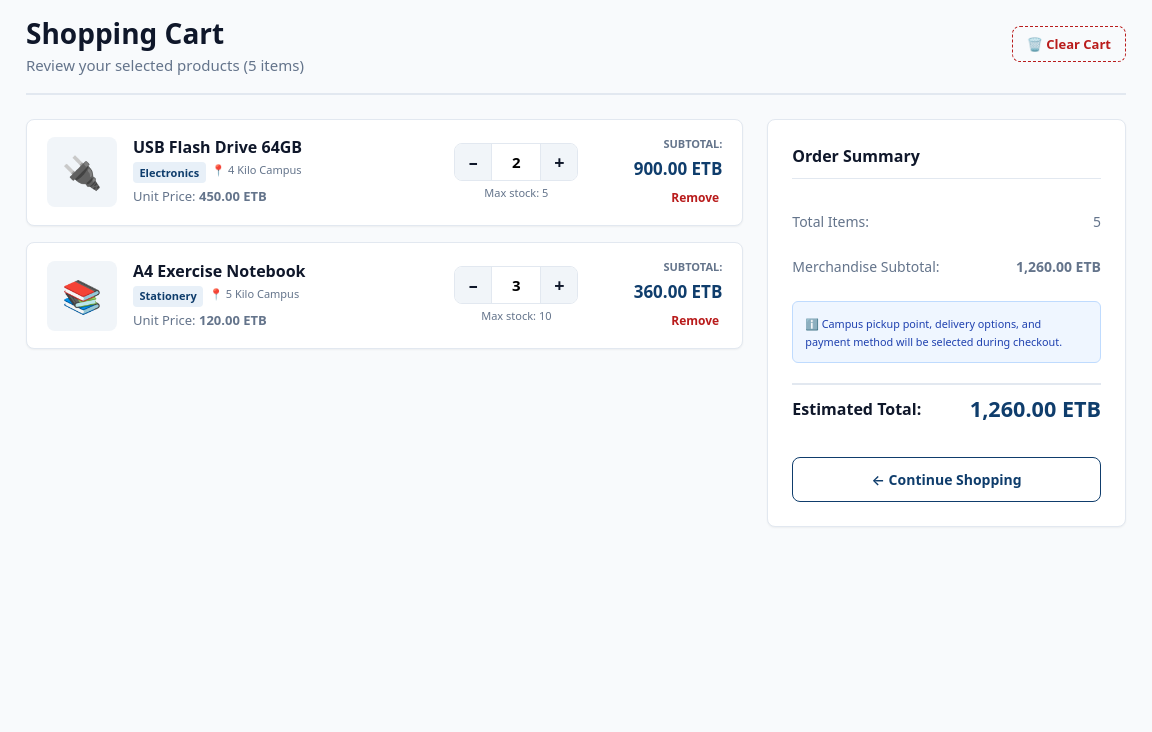
Test: CartPage Component › clears entire cart when Clear Cart is clicked
Click the button with aria-label "Clear all items from cart": [1069, 44] box 1012,26 -> 1126,62
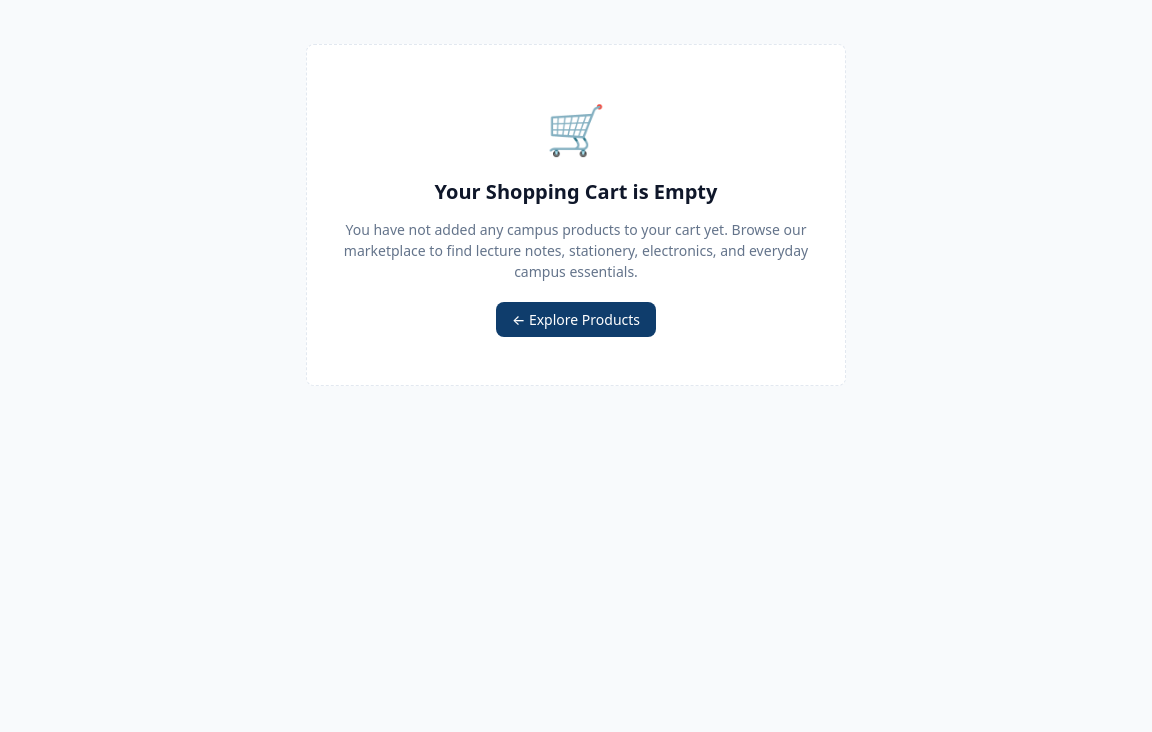
Now the heading "Your Shopping Cart is Empty" is shown, box 435,177 -> 717,207
